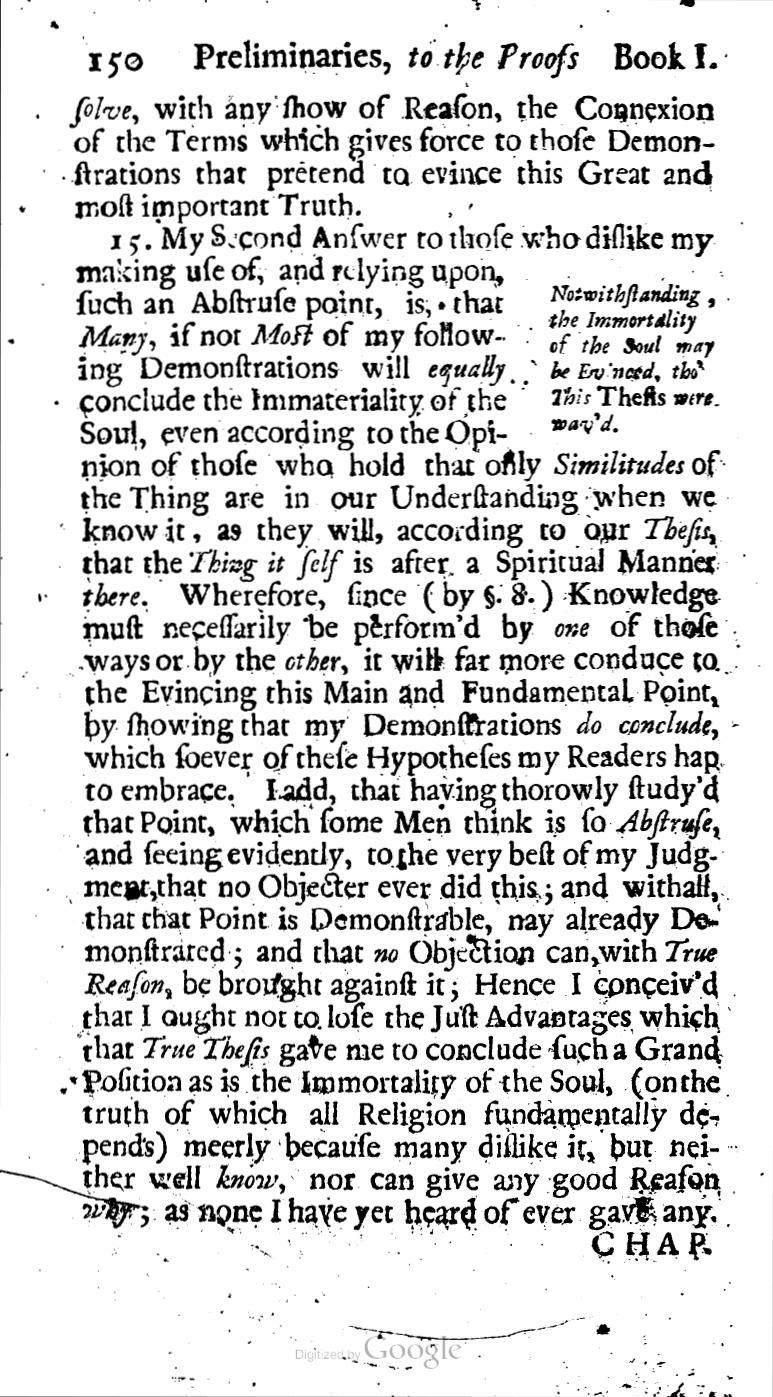bottom_p: (75, 449, 721, 1227), (68, 90, 720, 220)
catchword: (588, 1230, 716, 1260)
header: (188, 38, 724, 78)
page_num: (84, 46, 150, 80)
print_marg: (544, 278, 722, 438)
top_p: (75, 258, 511, 451), (72, 224, 720, 258)
